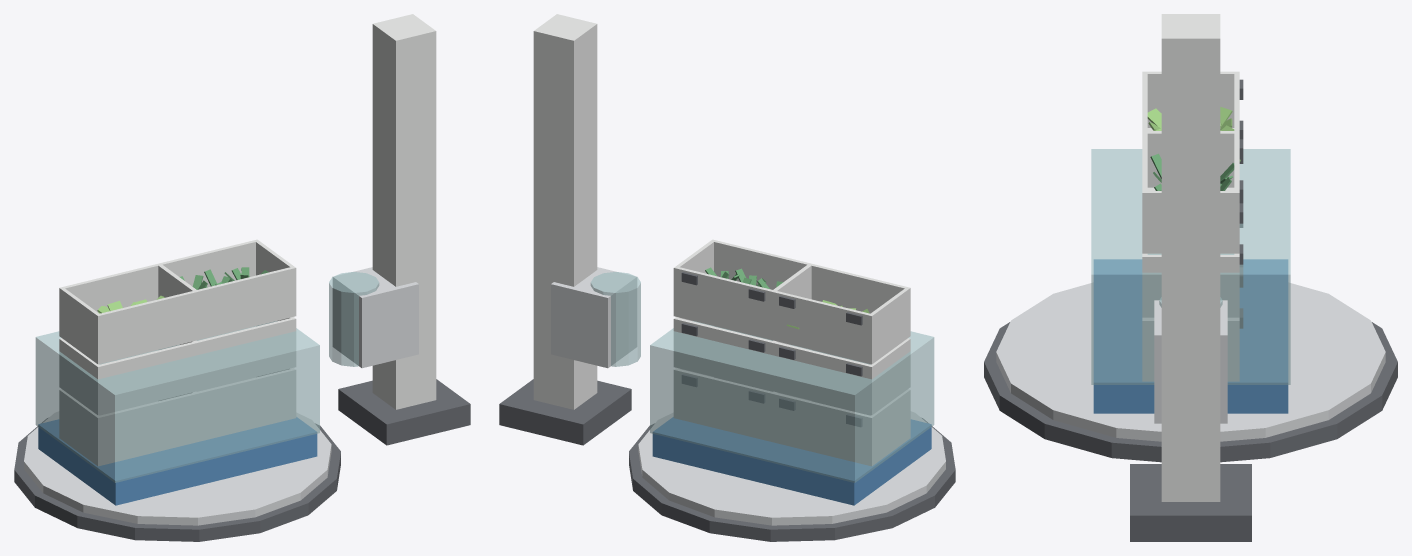
File: vertical-farm-and-hydroponics-tower-vertical-farm-and--4b86ee51__38364.glb
The picture shows the model from 3 angles, left to right: view 1: azimuth 30°, elevation 25°; view 2: azimuth 150°, elevation 25°; view 3: azimuth 270°, elevation 25°; orthographic projection. The views are drawn at different scales.
Parts seen in each view (by area): view 1: vertical-farm-and-hydroponics-tower-pallet-and-stretch-wrapp (×4), turntable/panel, turntable/water, turntable/steel, turntable/blue, turntable/leafDeep; view 2: vertical-farm-and-hydroponics-tower-pallet-and-stretch-wrapp (×4), turntable/panel, turntable/water, turntable/steel, turntable/blue, turntable/charcoal; view 3: vertical-farm-and-hydroponics-tower-pallet-and-stretch-wrapp (×3), turntable/water, turntable/steel, turntable/blue, turntable/panel, turntable/charcoal, turntable/leaf.
Boxes of the visible parts, box(x1,y1,x2,y2) form: vertical-farm-and-hydroponics-tower-pallet-and-stretch-wrapp (×4): box(14, 14, 470, 541); turntable/panel: box(59, 239, 296, 465); turntable/water: box(35, 321, 319, 482); turntable/steel: box(24, 411, 331, 525); turntable/blue: box(38, 417, 317, 505); turntable/leafDeep: box(179, 267, 268, 289); vertical-farm-and-hydroponics-tower-pallet-and-stretch-wrapp (×4): box(499, 14, 955, 541); turntable/panel: box(673, 239, 910, 465); turntable/water: box(650, 321, 934, 482); turntable/steel: box(638, 411, 945, 525); turntable/blue: box(652, 417, 931, 505); turntable/charcoal: box(681, 272, 862, 426); vertical-farm-and-hydroponics-tower-pallet-and-stretch-wrapp (×3): box(984, 14, 1397, 541); turntable/water: box(1091, 149, 1290, 384); turntable/steel: box(996, 282, 1385, 441); turntable/blue: box(1093, 259, 1288, 413); turntable/panel: box(1142, 71, 1239, 381); turntable/charcoal: box(1239, 79, 1243, 328); turntable/leaf: box(1147, 107, 1240, 161).
Size of the model in its own units: 2.45 by 2.22 by 1.7.
